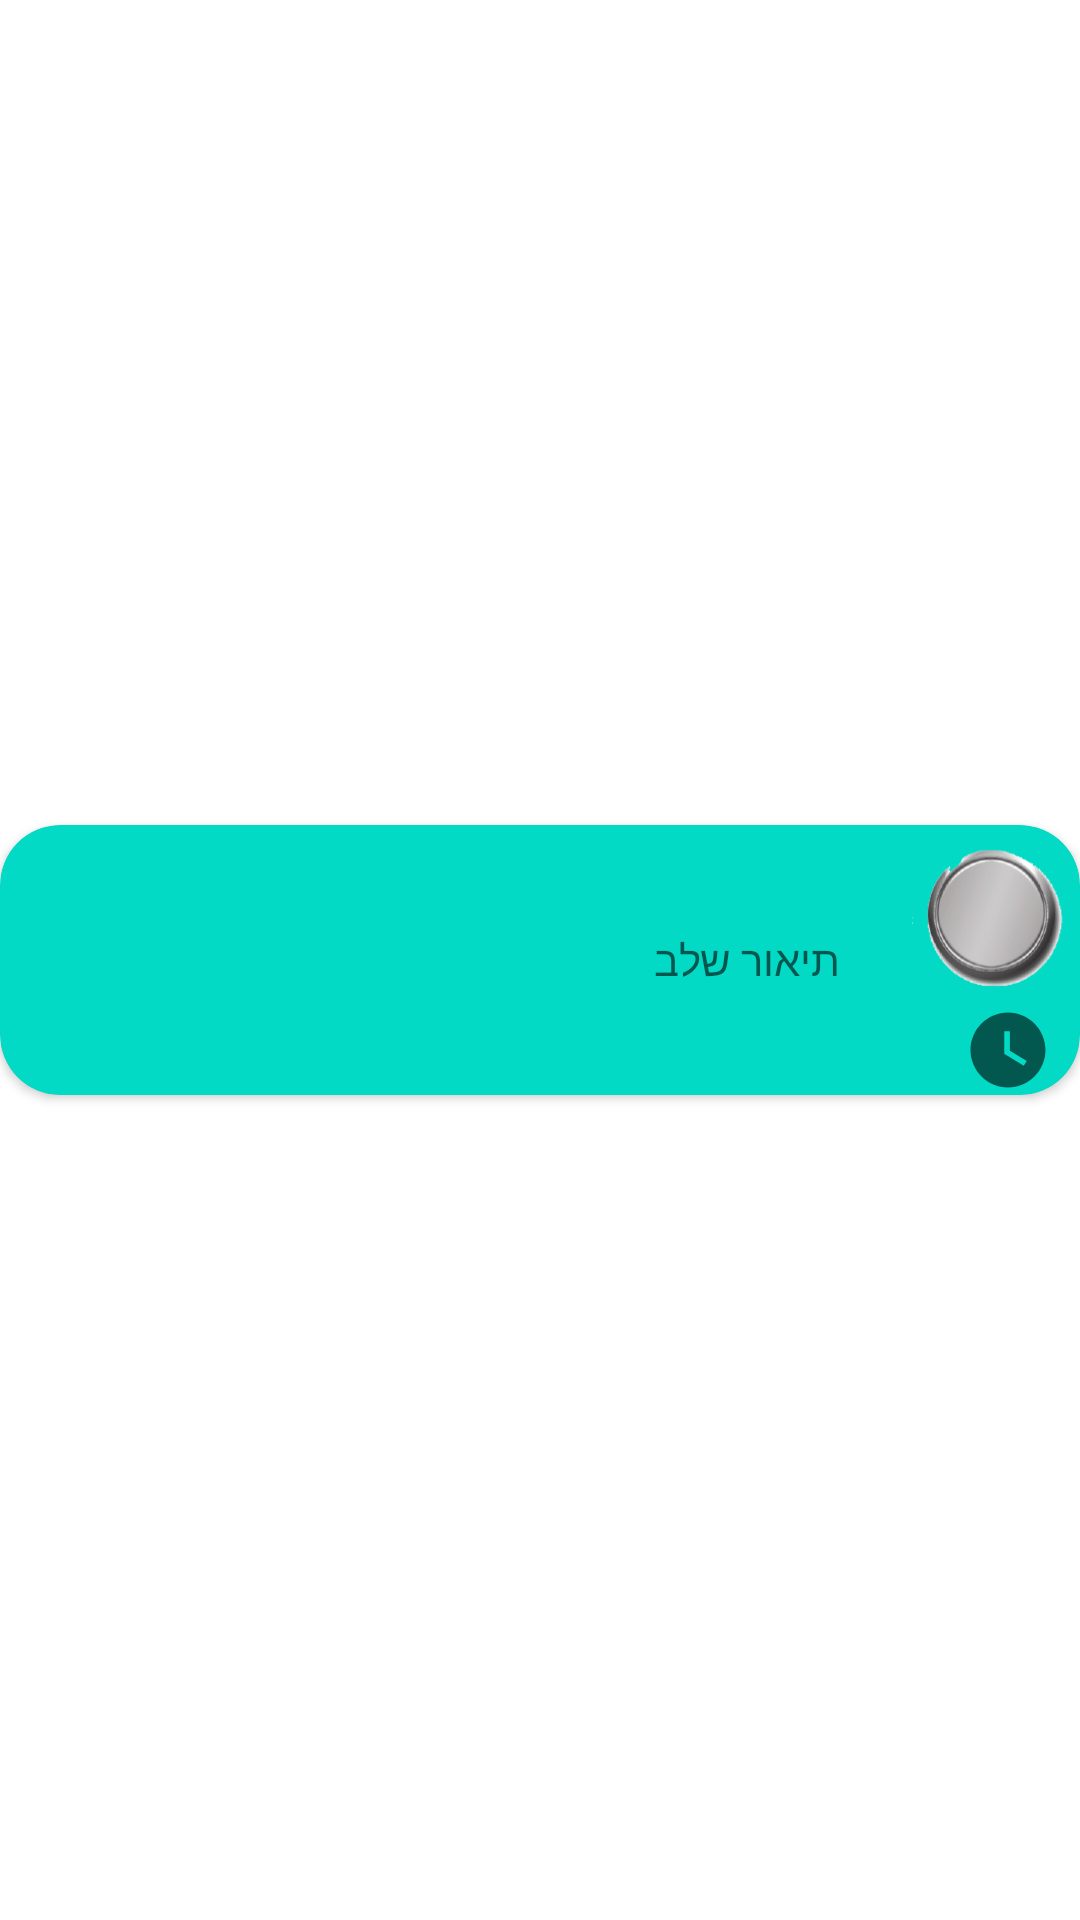

Icons on this 1080px×1920px Android screen, each with the point to tap as (x,y):
access time: (1008,1050)
